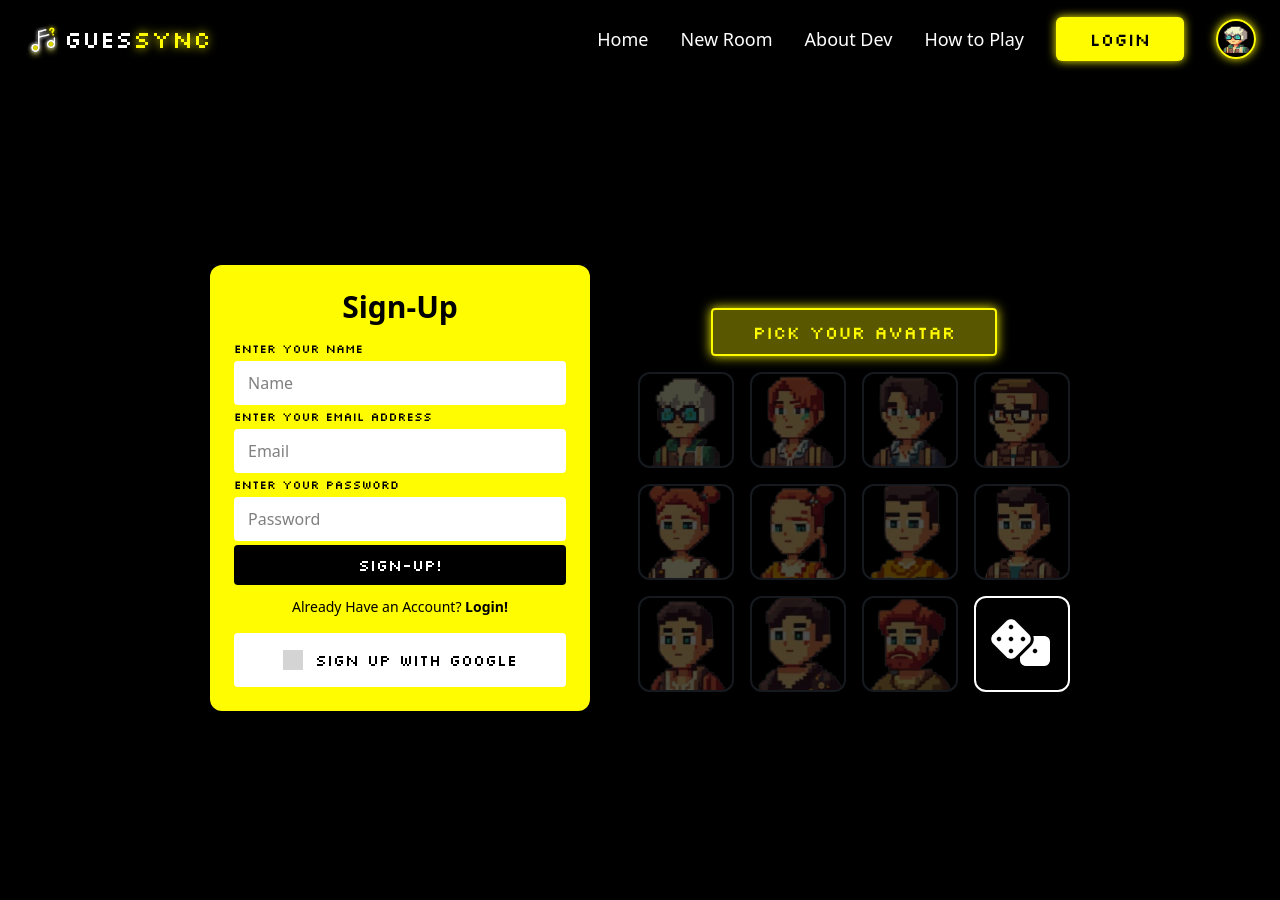
Signup Page › 5. Shows validation error if no name entered
Click the button "SIGN-UP!". click: click(400, 565)
box: [234,545,566,585]
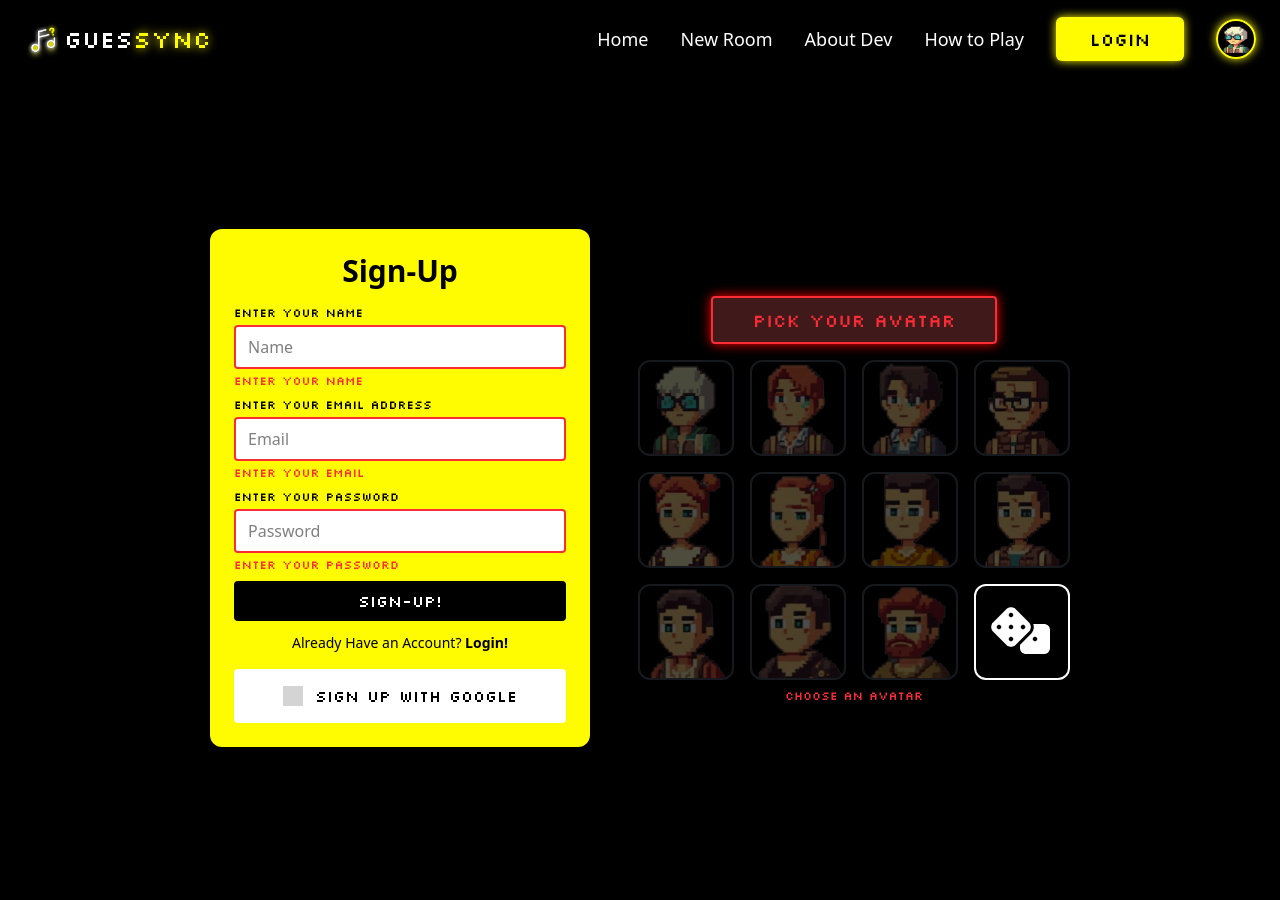
Check: the text "Enter your name" is shown, box [234,373,363,388]
